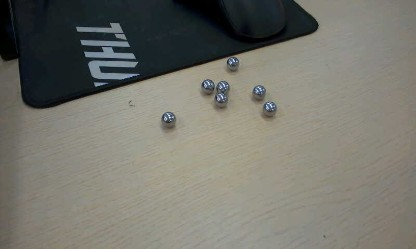ironball: (160, 111, 175, 127), (213, 92, 228, 107), (262, 100, 276, 116), (200, 78, 214, 94), (252, 84, 266, 99), (215, 80, 229, 94), (226, 56, 239, 71)
